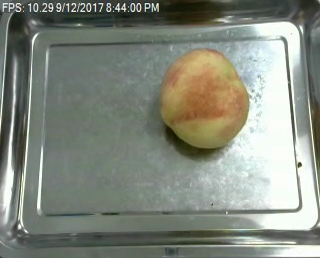Peach: (159, 46, 248, 150)
